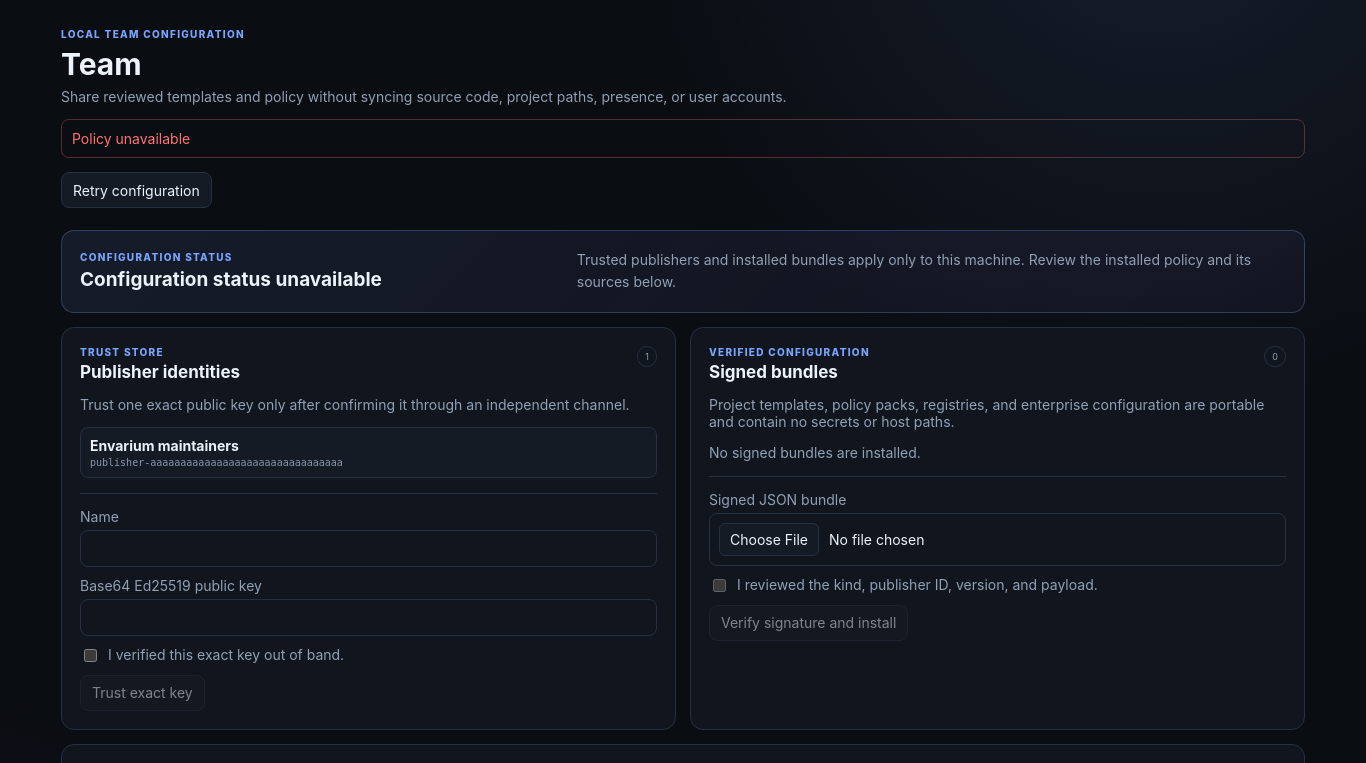
configuration errors have a retry instead of claiming that no data is installed
Check: the message reads "Policy unavailable", box [72,130,190,147]
Click the button "Retry configuration" at [136, 190], box [61,172,212,208]
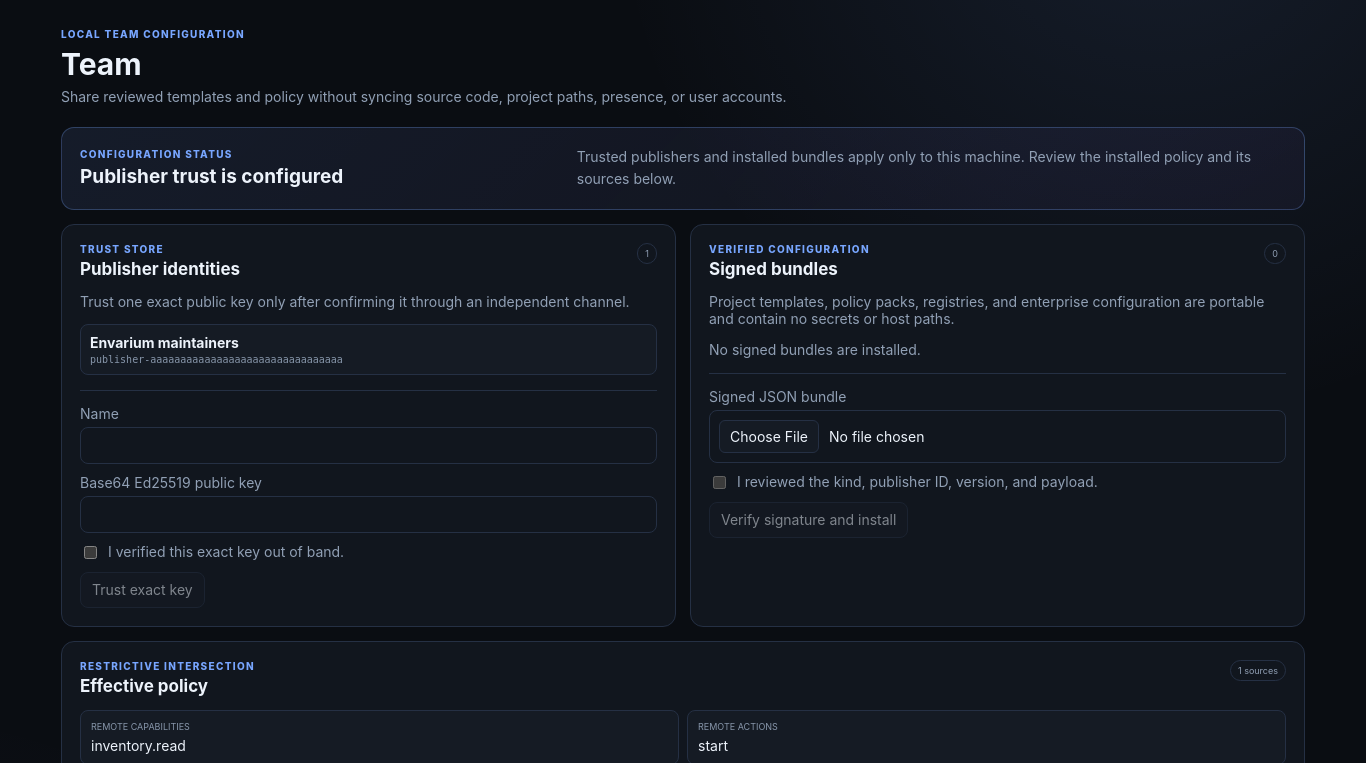
Check: the message "Policy unavailable" is gone
